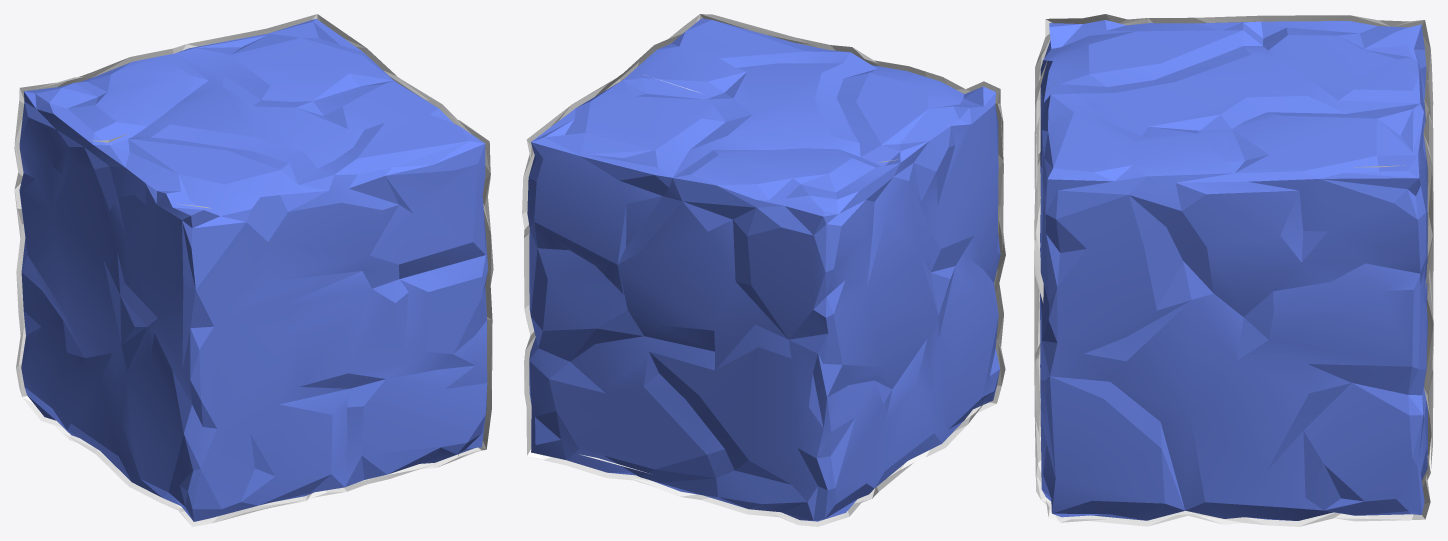
The model's file is land_test_2.gltf.
3 renders of one model, left to right at view 1: azimuth 30°, elevation 25°; view 2: azimuth 150°, elevation 25°; view 3: azimuth 270°, elevation 25°, orthographic. The views are drawn at different scales.
Parts seen in each view (by area): view 1: Cube.001; view 2: Cube.001; view 3: Cube.001.
Part boxes in pixels (box(x1,y1,x2,y2)): Cube.001: box(14, 14, 493, 526); Cube.001: box(522, 14, 1005, 526); Cube.001: box(1034, 14, 1433, 526).
Bounding box in the file's own units: 0.4066 × 0.4059 × 0.4055.
